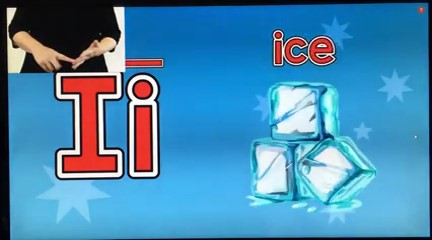I: (40, 40, 104, 73)
